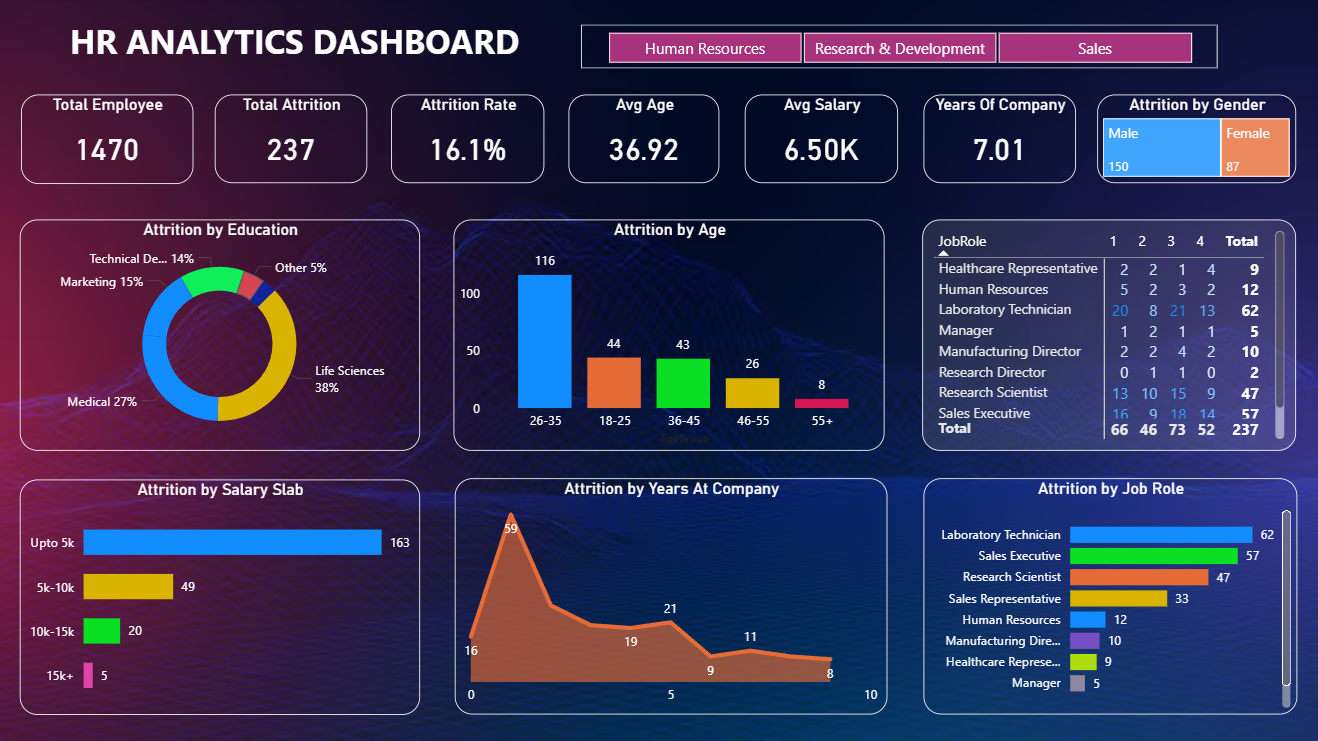

This screenshot's page, from the dashboard's own definition file:
{"tool":"powerbi","page":{"name":"Page 1","canvas":[1280,720],"ordinal":0},"visuals":[{"type":"card","title":"Total Employee","fields":{"Values":["CountNonNull(Data.EmpID)"]},"box":[23.8,93.7,166.2,86.2],"z":0},{"type":"card","title":"Total Attrition","fields":{"Values":["Sum(Data.AttritionCount)"]},"box":[211.1,93.9,147.2,85.7],"z":1000},{"type":"card","title":"Attrition Rate","fields":{"Values":["Data.AttritionRate"]},"box":[381.2,93.9,148.4,85.7],"z":2000},{"type":"card","title":"Avg Age","fields":{"Values":["Avg(Data.Age)"]},"box":[552.5,93.9,146,85.7],"z":3000},{"type":"card","title":"Avg Salary","fields":{"Values":["Avg(Data.MonthlyIncome)"]},"box":[722.7,93.9,148.4,85.7],"z":4000},{"type":"card","title":"Years Of Company","fields":{"Values":["Avg(Data.YearsAtCompany)"]},"box":[895.2,93.9,147.2,85.7],"z":5000},{"type":"textbox","box":[23.8,16.2,436.2,52.5],"z":6000},{"type":"treemap","title":"Attrition by Gender","fields":{"Group":["Data.Gender"],"Values":["Sum(Data.AttritionCount)"]},"box":[1062.9,69.8,191.8,109.8],"z":7000},{"type":"slicer","fields":{"Values":["Data.Department"]},"box":[460.9,20.3,614.1,42.2],"z":8000},{"type":"donutChart","title":"Attrition by Education","fields":{"Category":["Data.EducationField"],"Y":["Sum(Data.AttritionCount)"]},"box":[22.9,214.6,386.1,223.2],"z":9000},{"type":"columnChart","title":"Attrition by Age","fields":{"Category":["Data.AgeGroup"],"Y":["Sum(Data.AttritionCount)"]},"box":[441.6,214.6,416.2,223.2],"z":10000},{"type":"clusteredBarChart","title":"Attrition by Salary Slab","fields":{"Category":["Data.SalarySlab"],"Y":["Sum(Data.AttritionCount)"]},"box":[22.9,465.7,386.1,226.8],"z":11000},{"type":"clusteredBarChart","title":"Attrition by Job Role","fields":{"Y":["Sum(Data.AttritionCount)"],"Category":["Data.JobRole"]},"box":[895.2,464.5,360.7,228],"z":12000},{"type":"lineChart","title":"Attrition by Years At Company","fields":{"Category":["Data.YearsAtCompany"],"Y":["Sum(Data.AttritionCount)"]},"box":[442.8,464.5,417.4,228],"z":13000},{"type":"pivotTable","fields":{"Rows":["Data.JobRole"],"Columns":["Data.JobSatisfaction"],"Values":["Sum(Data.AttritionCount)"]},"box":[894,214.7,360.7,223.2],"z":14000}]}

Visuals, with their boxes in screenshot pixels (x1, y1, x2, y2), scaled from the page's 1280x720 canvas onto the 1318x741 screenshot:
"Total Employee" card: detection(25, 96, 196, 185)
"Total Attrition" card: detection(217, 97, 369, 185)
"Attrition Rate" card: detection(393, 97, 545, 185)
"Avg Age" card: detection(569, 97, 719, 185)
"Avg Salary" card: detection(744, 97, 897, 185)
"Years Of Company" card: detection(922, 97, 1073, 185)
textbox: detection(25, 17, 474, 71)
"Attrition by Gender" treemap: detection(1094, 72, 1292, 185)
slicer - Data.Department: detection(475, 21, 1107, 64)
"Attrition by Education" donutChart: detection(24, 221, 421, 451)
"Attrition by Age" columnChart: detection(455, 221, 883, 451)
"Attrition by Salary Slab" clusteredBarChart: detection(24, 479, 421, 713)
"Attrition by Job Role" clusteredBarChart: detection(922, 478, 1293, 713)
"Attrition by Years At Company" lineChart: detection(456, 478, 886, 713)
pivotTable - Data.JobRole x Data.JobSatisfaction: detection(921, 221, 1292, 451)
